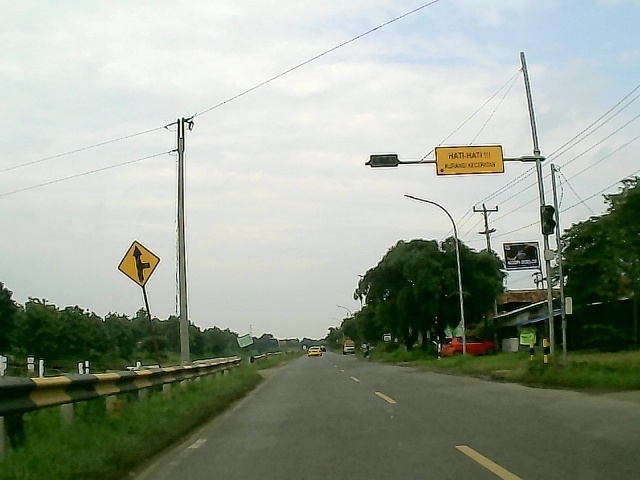Simpang kanan dengan prioritas: (113, 239, 165, 289)
